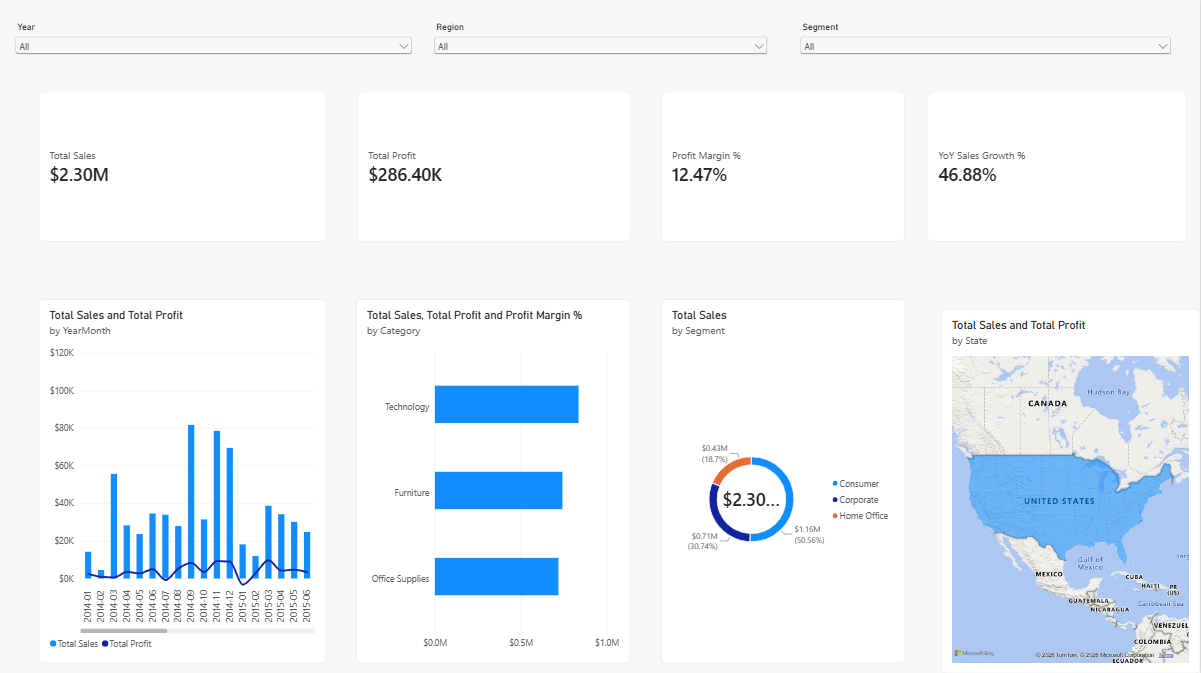

The page's visual inventory and layout, read from the dashboard file:
{"tool":"powerbi","page":{"name":"Executive Overview","canvas":[1920,1080],"ordinal":0},"visuals":[{"type":"slicer","fields":{"Values":["DimDate.Year"]},"box":[20,38,644,214],"z":0},{"type":"slicer","fields":{"Values":["Orders.Region"]},"box":[690,38,542.5,295],"z":1000},{"type":"slicer","fields":{"Values":["Orders.Segment"]},"box":[1275,37.5,602.5,312.5],"z":2000},{"type":"cardVisual","fields":{"Data":["_Measures.Total Sales"]},"box":[62,150,460,240],"z":3000},{"type":"cardVisual","fields":{"Data":["_Measures.Total Profit"]},"box":[572,150,437.5,240],"z":4000},{"type":"cardVisual","fields":{"Data":["_Measures.Profit Margin %"]},"box":[1058,150,390,240],"z":5000},{"type":"cardVisual","fields":{"Data":["_Measures.YoY Sales Growth %"]},"box":[1484,150,415,240],"z":6000},{"type":"clusteredBarChart","fields":{"Category":["Orders.Category","Orders.Sub-Category"],"Y":["_Measures.Total Sales"]},"box":[570,482,438,582],"z":7000},{"type":"filledMap","fields":{"Category":["Orders.State"]},"box":[1505,497.5,414,582],"z":8000},{"type":"donutChart","fields":{"Category":["Orders.Segment"],"Y":["_Measures.Total Sales"]},"box":[1058,482,390,582],"z":9000},{"type":"lineClusteredColumnComboChart","fields":{"Category":["DimDate.YearMonth"],"Y":["_Measures.Total Sales"],"Y2":["_Measures.Total Profit"]},"box":[62,482,460,582],"z":10000}]}

Visuals, with their boxes in screenshot pixels (x1, y1, x2, y2), scaled from the page's 1920x1080 canvas onto the 1201x673 screenshot:
slicer - DimDate.Year: 13,24,415,157
slicer - Orders.Region: 432,24,771,208
slicer - Orders.Segment: 798,23,1174,218
cardVisual - _Measures.Total Sales: 39,93,327,243
cardVisual - _Measures.Total Profit: 358,93,631,243
cardVisual - _Measures.Profit Margin %: 662,93,906,243
cardVisual - _Measures.YoY Sales Growth %: 928,93,1188,243
clusteredBarChart - Orders.Category x Orders.Sub-Category: 357,300,631,663
filledMap - Orders.State: 941,310,1200,672
donutChart - Orders.Segment x _Measures.Total Sales: 662,300,906,663
lineClusteredColumnComboChart - DimDate.YearMonth x _Measures.Total Sales: 39,300,327,663
